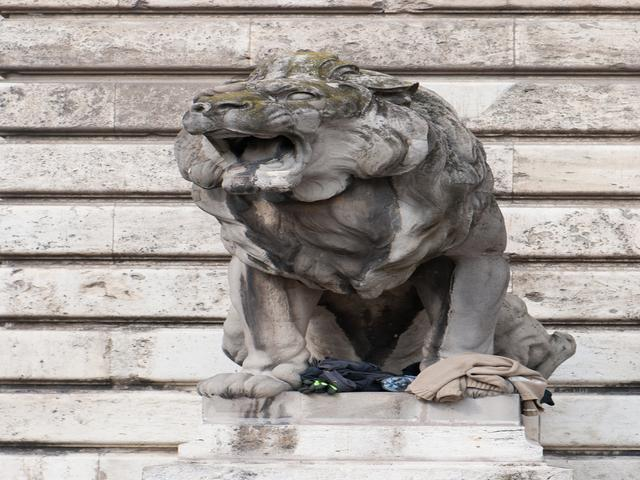lion: (141, 42, 573, 434)
